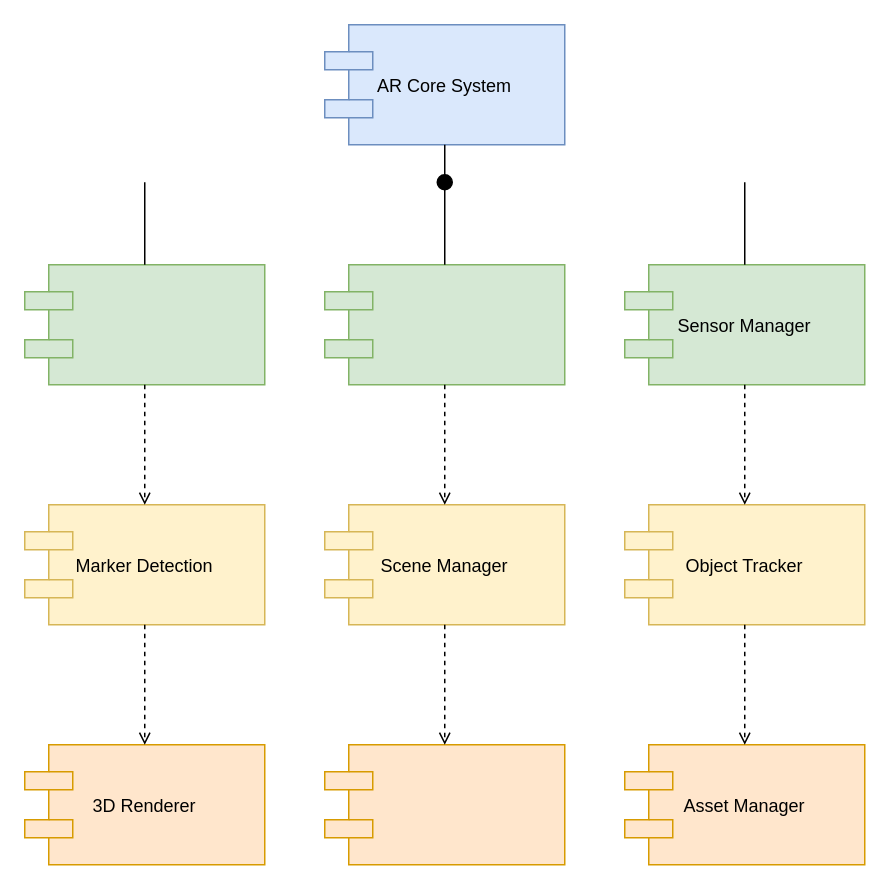
Image size: 890x890. Some labels were removed from this diagram. The shapes that lost their labels are listed below. From the top down, each one's centre as x and y in pixels, then its label:
At (144,324): "Camera Manager".
At (444,324): "Input Handler".
At (444,804): "UI Manager".
